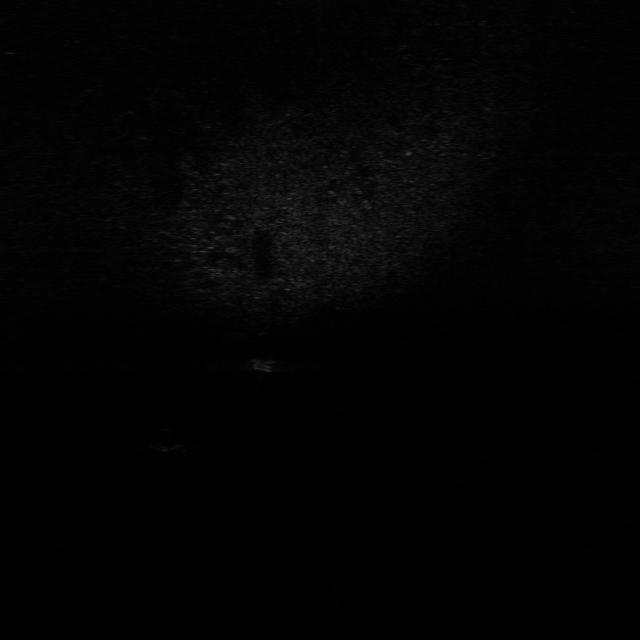ball: (148, 425, 184, 451)
cube: (250, 353, 278, 374)
